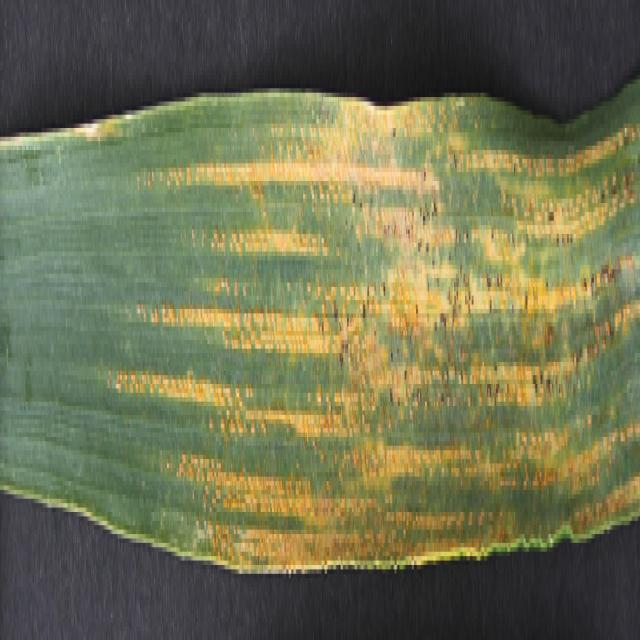leaf rust: (105, 93, 640, 565)
